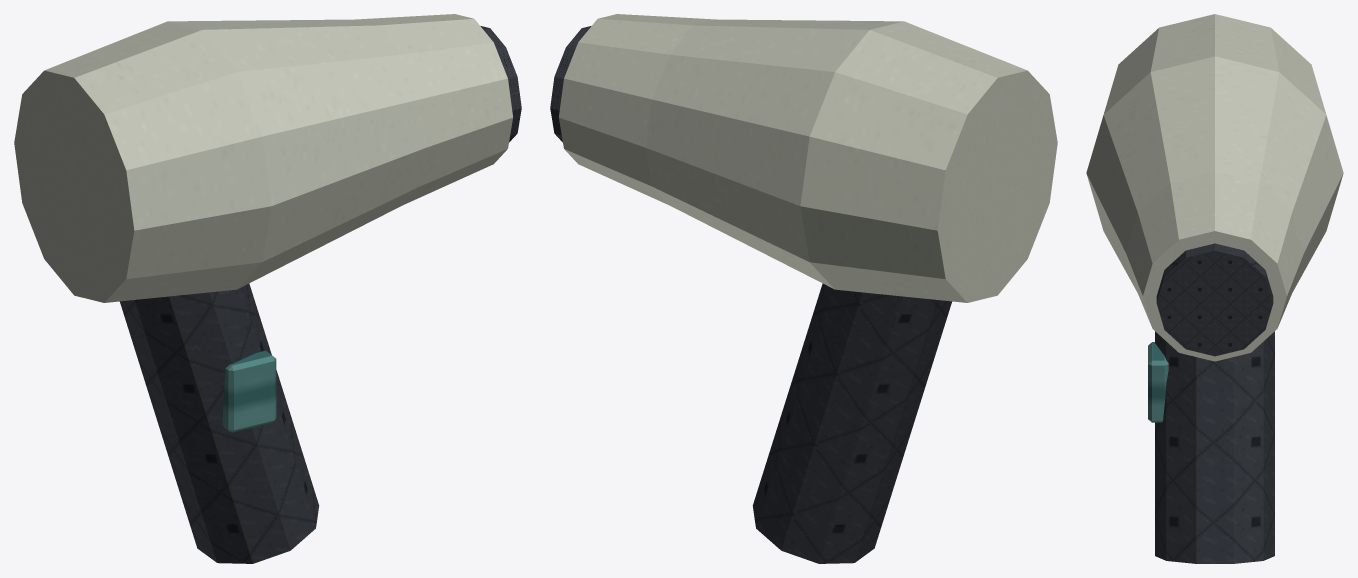
The model's file is MD_107_Hairdryer.fbx.
The picture shows the model from 3 angles, left to right: view 1: azimuth 30°, elevation 25°; view 2: azimuth 150°, elevation 25°; view 3: azimuth 270°, elevation 25°; orthographic projection. The views are drawn at different scales.
Visible parts, largest first — view 1: MD_107_Hairdryer_dryer_barrel, MD_107_Hairdryer_dryer_grip, MD_107_Hairdryer_dryer_switch, MD_107_Hairdryer_nozzle_opening; view 2: MD_107_Hairdryer_dryer_barrel, MD_107_Hairdryer_dryer_grip, MD_107_Hairdryer_nozzle_opening; view 3: MD_107_Hairdryer_dryer_barrel, MD_107_Hairdryer_dryer_grip, MD_107_Hairdryer_nozzle_opening, MD_107_Hairdryer_dryer_switch.
Boxes of the visible parts, left/top/right/bottom form: MD_107_Hairdryer_dryer_barrel: left=14, top=14, right=512, bottom=302; MD_107_Hairdryer_dryer_grip: left=119, top=283, right=319, bottom=563; MD_107_Hairdryer_dryer_switch: left=222, top=350, right=276, bottom=432; MD_107_Hairdryer_nozzle_opening: left=480, top=26, right=521, bottom=142; MD_107_Hairdryer_dryer_barrel: left=559, top=14, right=1057, bottom=302; MD_107_Hairdryer_dryer_grip: left=752, top=283, right=952, bottom=563; MD_107_Hairdryer_nozzle_opening: left=550, top=26, right=591, bottom=142; MD_107_Hairdryer_dryer_barrel: left=1086, top=14, right=1343, bottom=361; MD_107_Hairdryer_dryer_grip: left=1155, top=331, right=1274, bottom=563; MD_107_Hairdryer_nozzle_opening: left=1156, top=243, right=1273, bottom=356; MD_107_Hairdryer_dryer_switch: left=1148, top=342, right=1168, bottom=422.
Size of the model in its own units: 0.26 by 0.3147 by 0.15.
3 materials, 3 textured.
